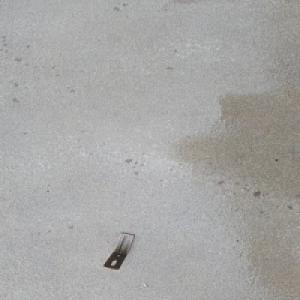MetalPart: (101, 232, 135, 270)
